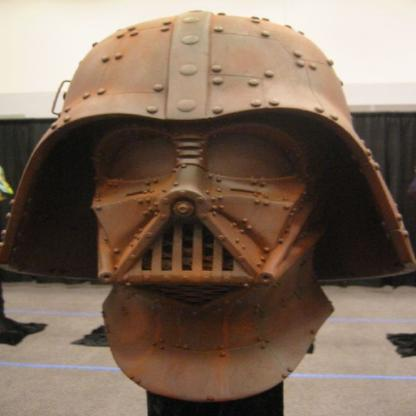Helmet: (0, 13, 415, 284)
